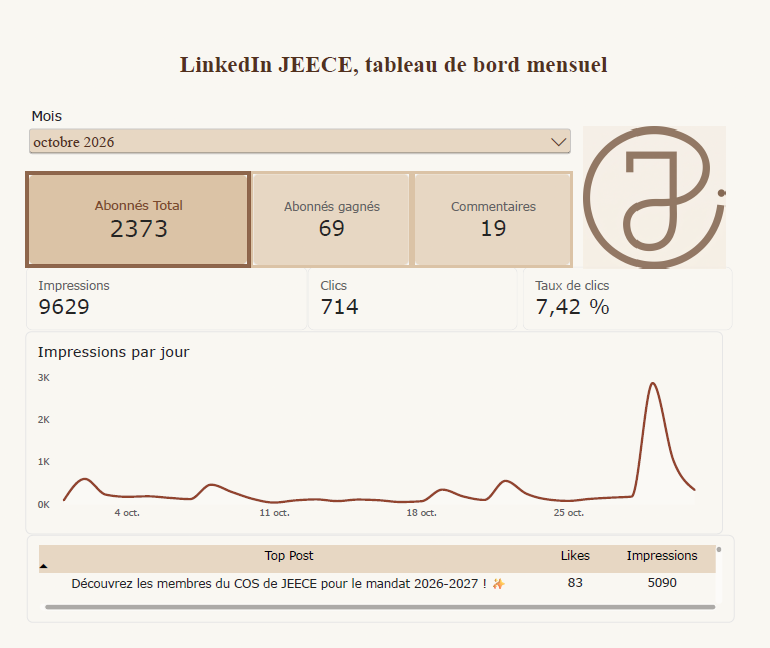

Layout of this report page (visuals, bound fields, positions):
{"tool":"powerbi","page":{"name":"Page 1","canvas":[1920,1080],"ordinal":0},"visuals":[{"type":"cardVisual","fields":{"Data":["Indicateurs.Impressions"]},"box":[620.8,375.2,388.7,87],"z":0},{"type":"cardVisual","fields":{"Data":["Calendrier.Clics","Calendrier.Taux de clics"]},"box":[1009.5,375.2,587.9,87],"z":1000},{"type":"lineChart","title":"Impressions par jour","fields":{"Category":["Indicateurs.Date","Calendrier.Mois.Variation.Date Hierarchy.Year","Calendrier.Mois.Variation.Date Hierarchy.Quarter","Calendrier.Mois.Variation.Date Hierarchy.Month","Calendrier.Mois.Variation.Date Hierarchy.Day"],"Y":["Indicateurs.Impressions"]},"box":[619.8,464.2,963,280],"z":2000},{"type":"slicer","fields":{"Values":["Calendrier.Mois"]},"box":[619.6,153.9,758.2,88.5],"z":3000},{"type":"cardVisual","fields":{"Data":["Abonnes.Abonnés gagnés (net)"]},"box":[931,243.4,222.4,133.4],"z":4000},{"type":"cardVisual","fields":{"Data":["Sum(AbonnesTotal.Abonnes)"]},"box":[619.8,243.4,311.4,133.4],"z":5000},{"type":"tableEx","fields":{"Values":["Posts.Titre du post","Sum(Posts.J’aime)","Sum(Posts.Impressions)"]},"box":[621.5,744.7,977.5,121.2],"z":6000},{"type":"image","box":[1379.7,180.9,215.5,196.3],"z":7000},{"type":"cardVisual","fields":{"Data":["Sum(Indicateurs.Commentaires (total))"]},"box":[1154.3,243.4,222.4,133.4],"z":8000},{"type":"textbox","box":[833.2,77,611.9,50],"z":8001}]}

Visuals, with their boxes on the page's 1920x1080 design canvas (x1, y1, x2, y2). These are canvas units, not pixel positions in the 770x648 screenshot, which may show the page scaled, cropped or inside an application window:
cardVisual - Indicateurs.Impressions: crop(621, 375, 1010, 462)
cardVisual - Calendrier.Clics x Calendrier.Taux de clics: crop(1010, 375, 1597, 462)
"Impressions par jour" lineChart: crop(620, 464, 1583, 744)
slicer - Calendrier.Mois: crop(620, 154, 1378, 242)
cardVisual - Abonnes.Abonnés gagnés (net): crop(931, 243, 1153, 377)
cardVisual - Sum(AbonnesTotal.Abonnes): crop(620, 243, 931, 377)
tableEx - Posts.Titre du post x Sum(Posts.J’aime): crop(622, 745, 1599, 866)
image: crop(1380, 181, 1595, 377)
cardVisual - Sum(Indicateurs.Commentaires (total)): crop(1154, 243, 1377, 377)
textbox: crop(833, 77, 1445, 127)
